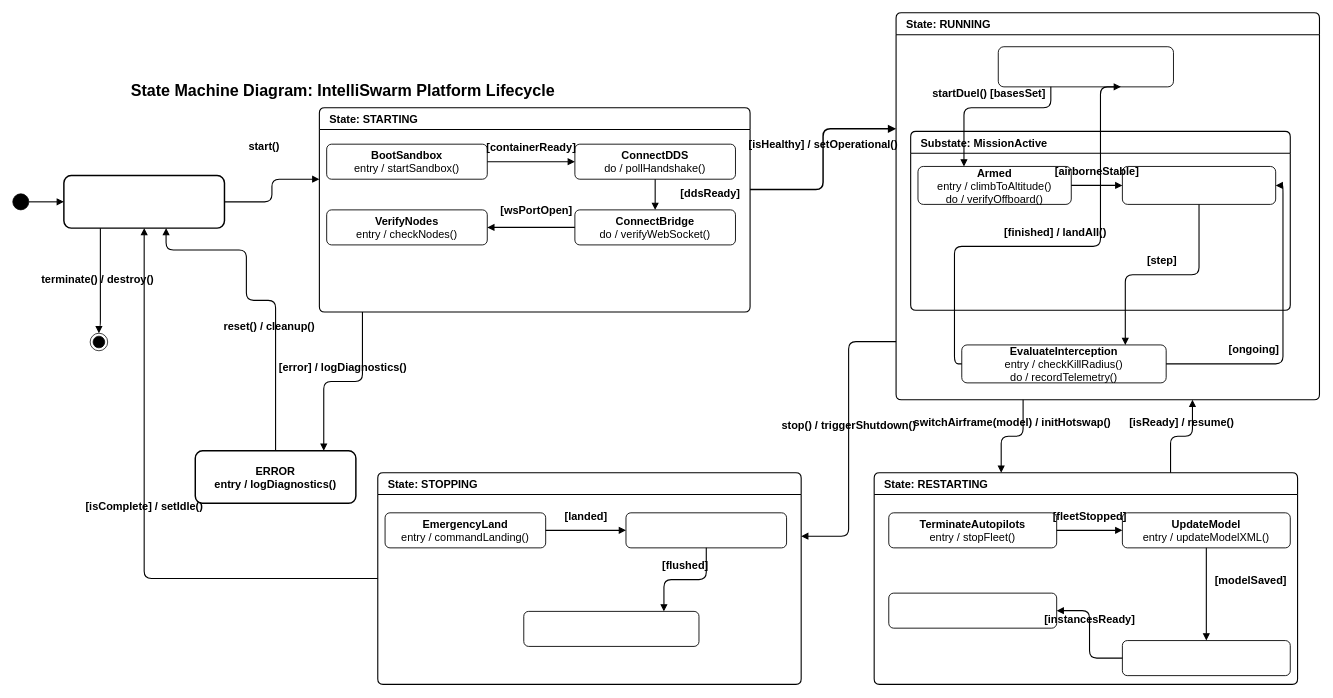
Image size: 1333x698. Some labels were removed from this diagram. The centre of each missing label's shape, as x and y in pixels:
"FlushBuffers entry / commitRecords()" goes at (x=706, y=530).
"SpawnFleet entry / launchInstances()" goes at (x=1206, y=658).
"STANDBY entry / awaitCommands()" goes at (x=1085, y=66).
"STOPPED entry / releasePorts()" goes at (x=144, y=201).
"TacticalGuidance do / executeGuidance()" goes at (x=1199, y=185).
"TerminateSandbox entry / stopSandbox()" goes at (x=611, y=628).
"VerifyBindings do / checkTopics()" goes at (x=972, y=610).
